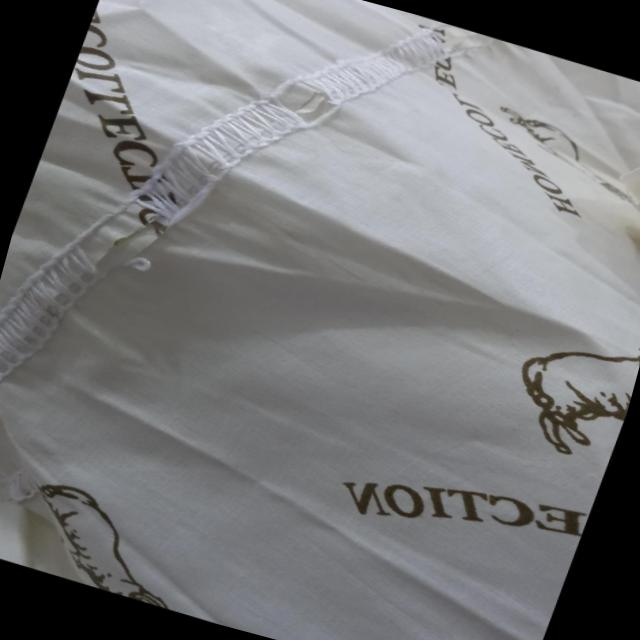gray stitch: (165, 0, 491, 241), (0, 127, 195, 419)
